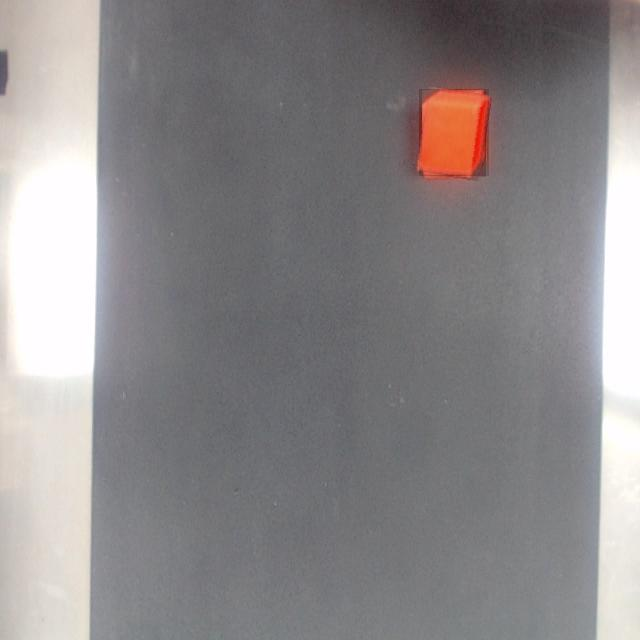Rojo: (419, 90, 489, 176)
